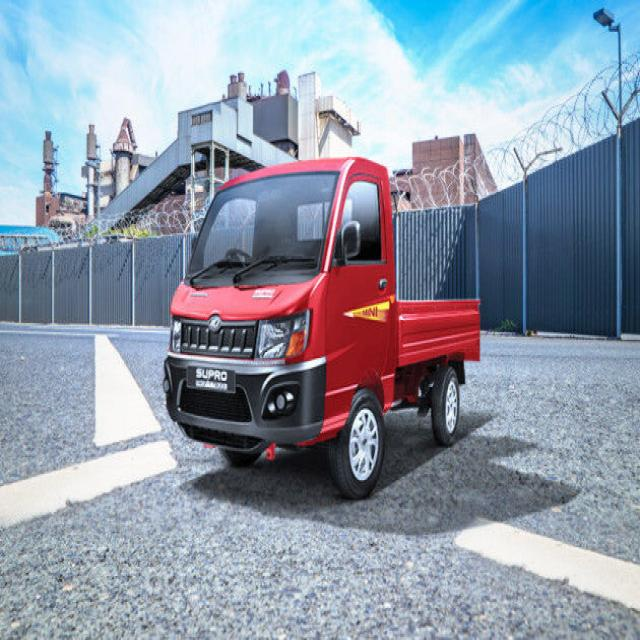truck: (164, 159, 480, 498)
